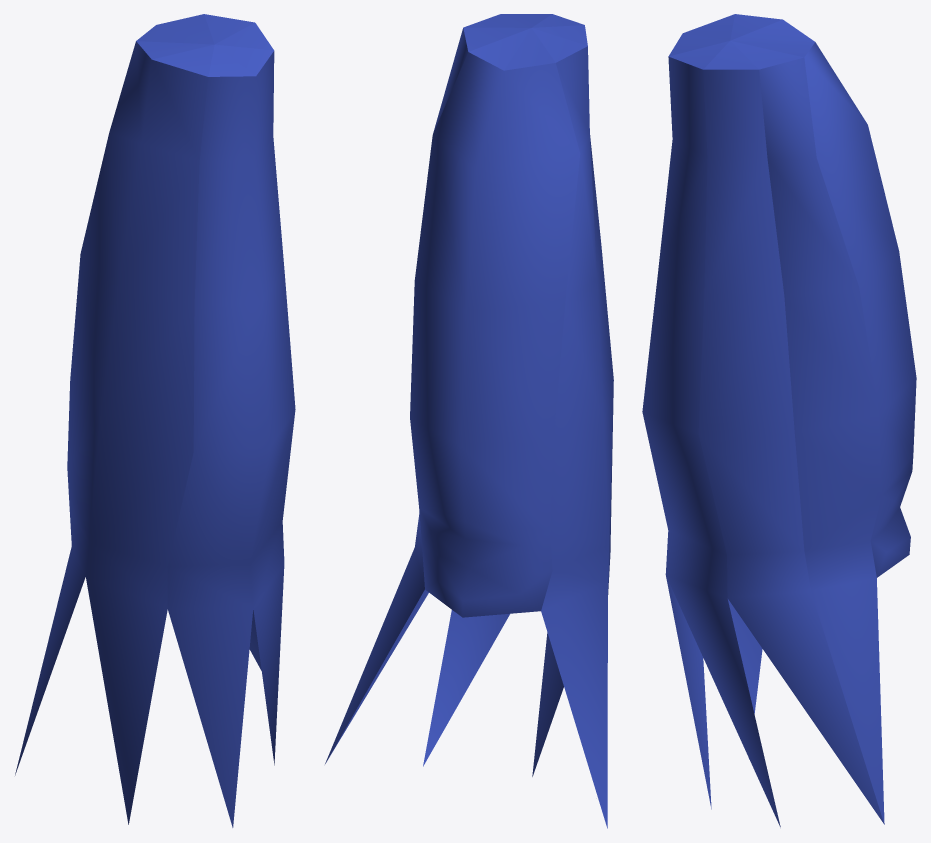
The model's file is left_leg.glb.
3 views of the same model, side by side, from view 1: azimuth 30°, elevation 25°; view 2: azimuth 150°, elevation 25°; view 3: azimuth 270°, elevation 25° (orthographic). The views are drawn at different scales.
Parts seen in each view (by area): view 1: trousers-blue_LEFT_LEG; view 2: trousers-blue_LEFT_LEG; view 3: trousers-blue_LEFT_LEG.
Boxes of the visible parts, box(x1,y1,x2,y2) form: trousers-blue_LEFT_LEG: box(15, 14, 295, 827); trousers-blue_LEFT_LEG: box(325, 14, 613, 828); trousers-blue_LEFT_LEG: box(642, 14, 916, 827).
Bounding box in the file's own units: 0.2273 × 0.6193 × 0.2011.
Materials: 1 (1 with a texture image).
